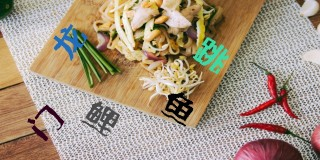跳: (193, 34, 230, 75)
门: (28, 105, 64, 140)
鱼: (162, 90, 194, 127)
鲤: (81, 99, 120, 138)
龙: (52, 24, 87, 60)
